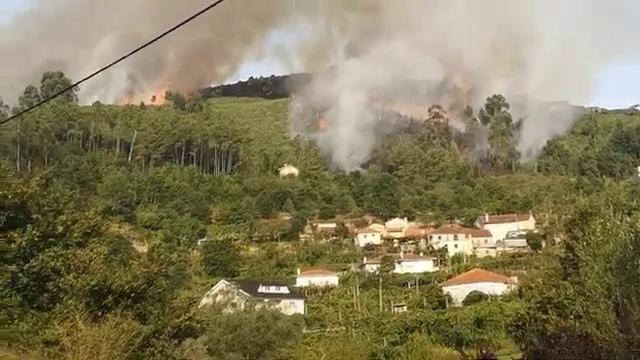smoke: (336, 5, 541, 85), (35, 8, 123, 59), (155, 44, 219, 84)
